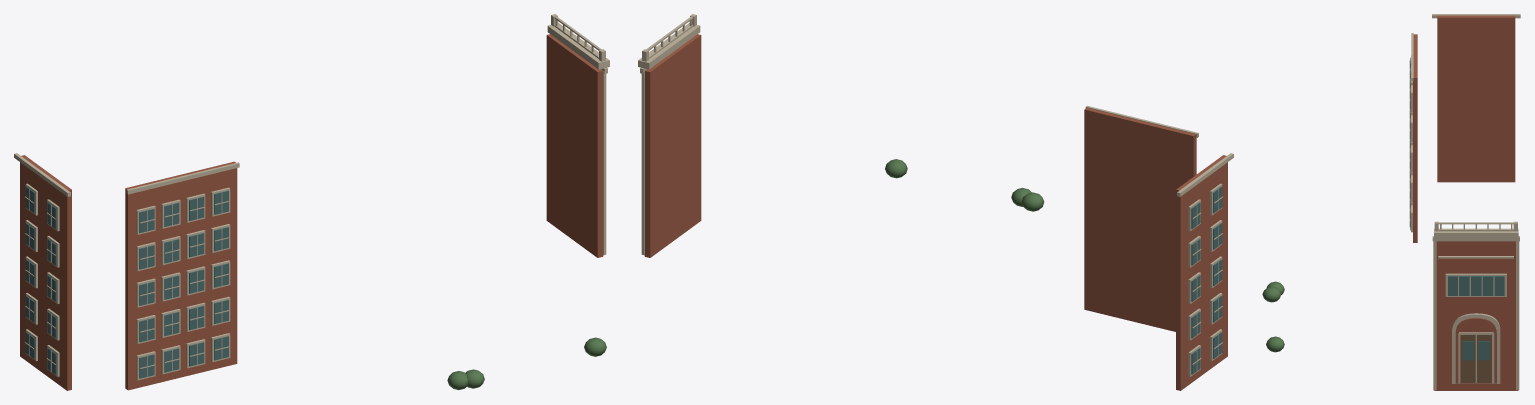
The model's file is fenton-entry-connected-overlay-2026-11-04.glb.
3 renders of one model, left to right at view 1: azimuth 30°, elevation 25°; view 2: azimuth 150°, elevation 25°; view 3: azimuth 270°, elevation 25°, orthographic. The views are drawn at different scales.
Visible parts, largest first — view 1: fenton-part-0, fenton-part-1; view 2: fenton-part-0, fenton-part-1; view 3: fenton-part-0, fenton-part-1.
Boxes of the visible parts, x1,y1,x2,y2 form: fenton-part-0: (14, 14, 609, 390); fenton-part-1: (447, 337, 606, 390); fenton-part-0: (638, 14, 1233, 390); fenton-part-1: (885, 159, 1044, 211); fenton-part-0: (1409, 14, 1520, 390); fenton-part-1: (1262, 281, 1284, 352).
Bounding box in the file's own units: 44.01 × 16.16 × 21.85.
